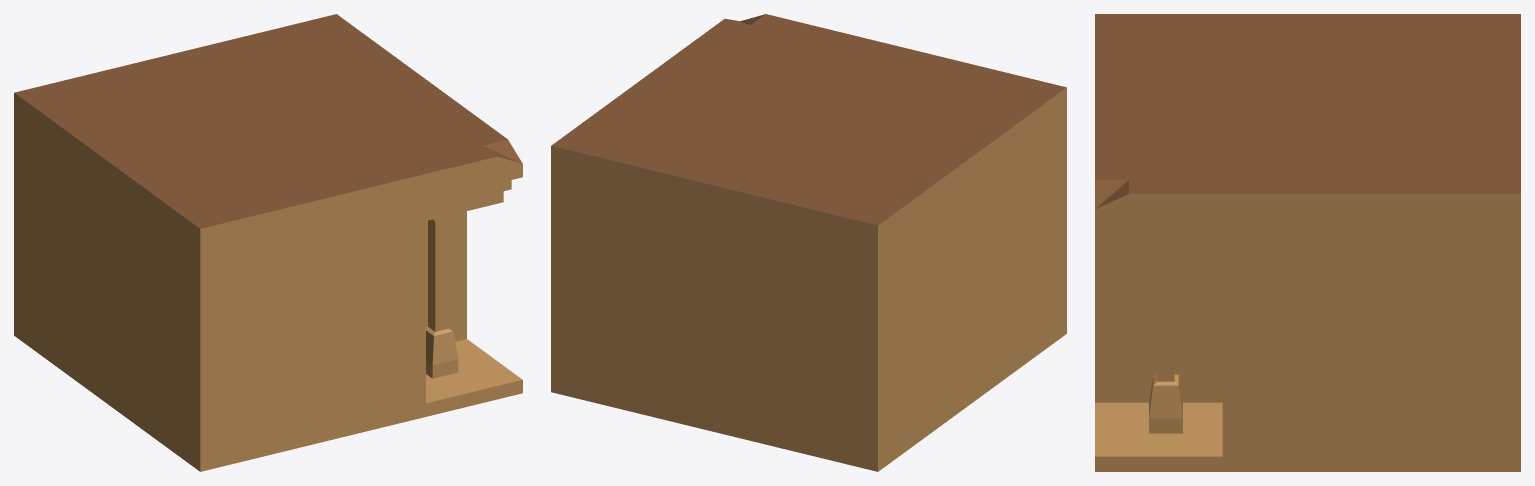
File: hindu-wall-interior-corner.glb
3 renders of one model, left to right at view 1: azimuth 30°, elevation 25°; view 2: azimuth 150°, elevation 25°; view 3: azimuth 270°, elevation 25°, orthographic. The views are drawn at different scales.
Visible parts, largest first — view 1: hindu-wall-interior-corner; view 2: hindu-wall-interior-corner; view 3: hindu-wall-interior-corner.
Part boxes in pixels (x1,y1,x2,y2): hindu-wall-interior-corner: [14, 14, 522, 471]; hindu-wall-interior-corner: [551, 14, 1066, 471]; hindu-wall-interior-corner: [1095, 14, 1520, 471].
Size of the model in its own units: 5 by 3.6 by 5.
Materials: 1 (1 with a texture image).
